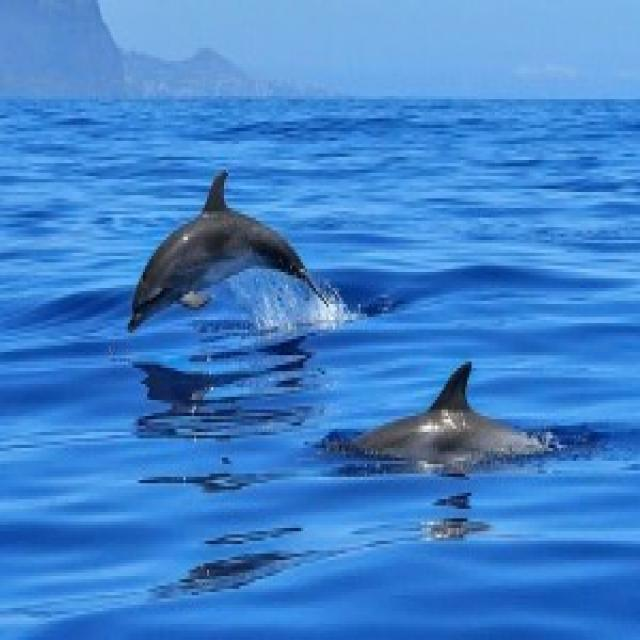Dolphin: (124, 162, 339, 340)
